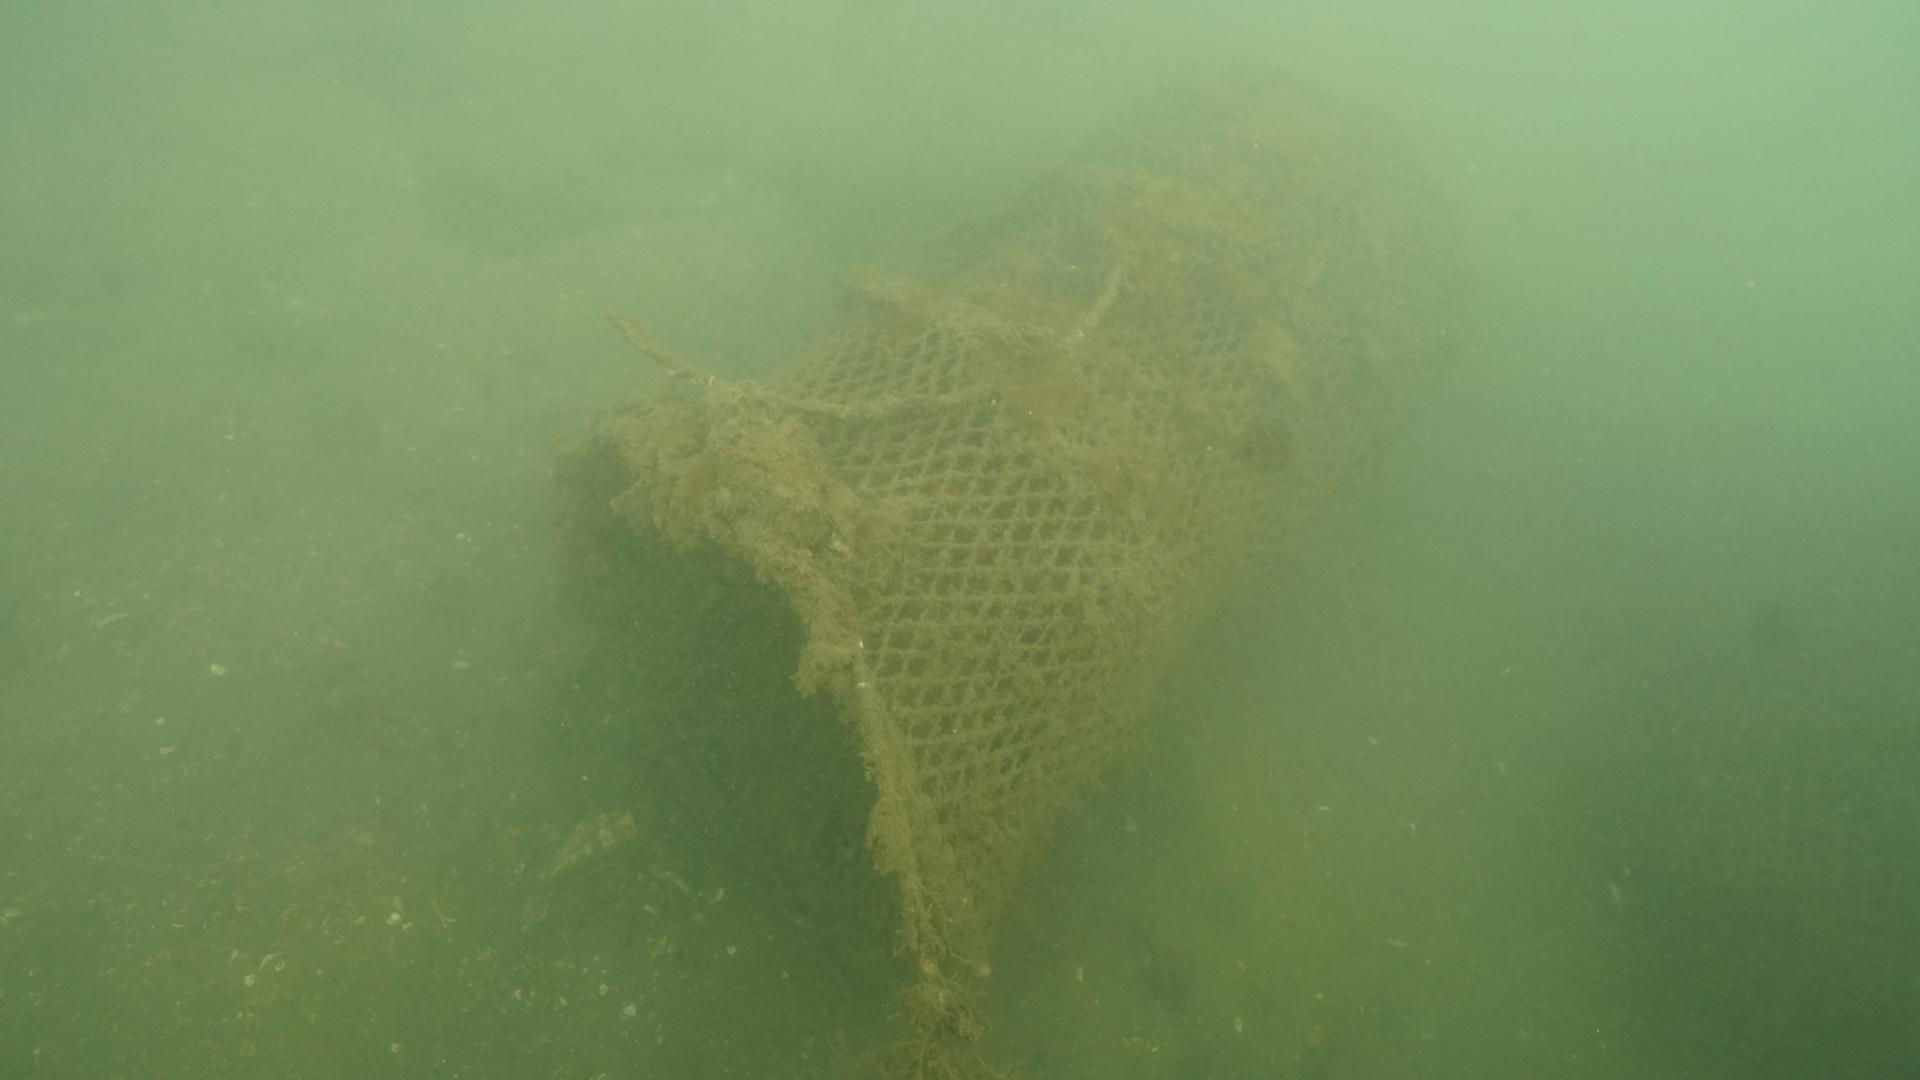spring fish trap: (545, 65, 1485, 1047)
